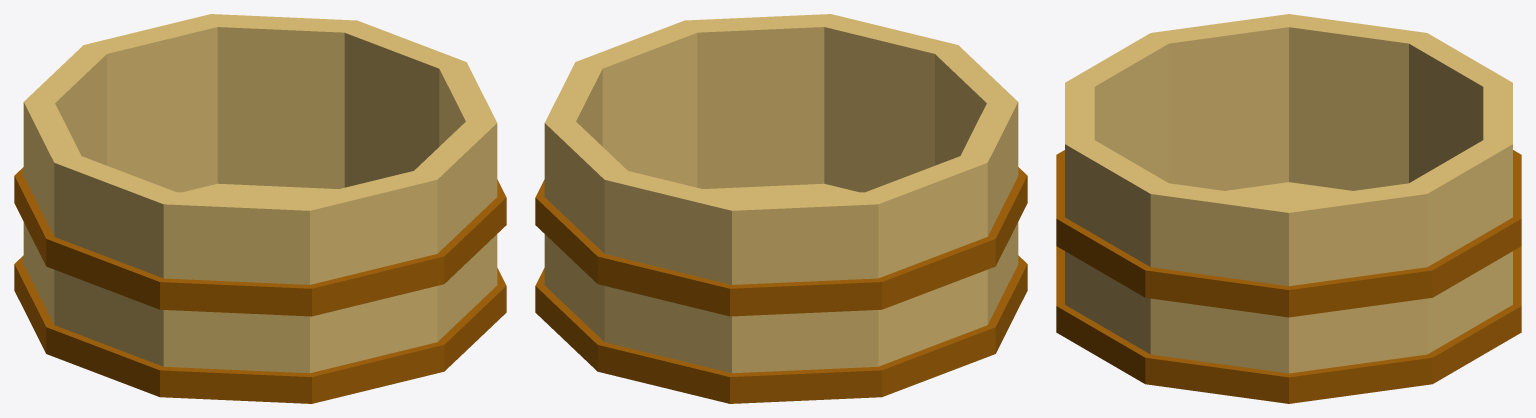
The model's file is FuroOke.fbx.
3 renders of one model, left to right at view 1: azimuth 30°, elevation 25°; view 2: azimuth 150°, elevation 25°; view 3: azimuth 270°, elevation 25°, orthographic.
Visible parts, largest first — view 1: pCylinder1; view 2: pCylinder1; view 3: pCylinder1.
Boxes of the visible parts, box(x1,y1,x2,y2) form: pCylinder1: box(14, 14, 506, 403); pCylinder1: box(535, 14, 1027, 403); pCylinder1: box(1056, 14, 1521, 403).
Size of the model in its own units: 8.21 by 3.47 by 7.81.
